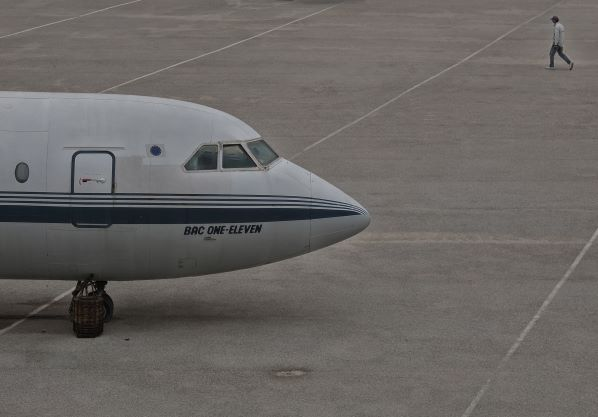human: (540, 11, 577, 76)
plane: (3, 82, 376, 339)
